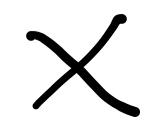mult: (27, 14, 140, 118)
